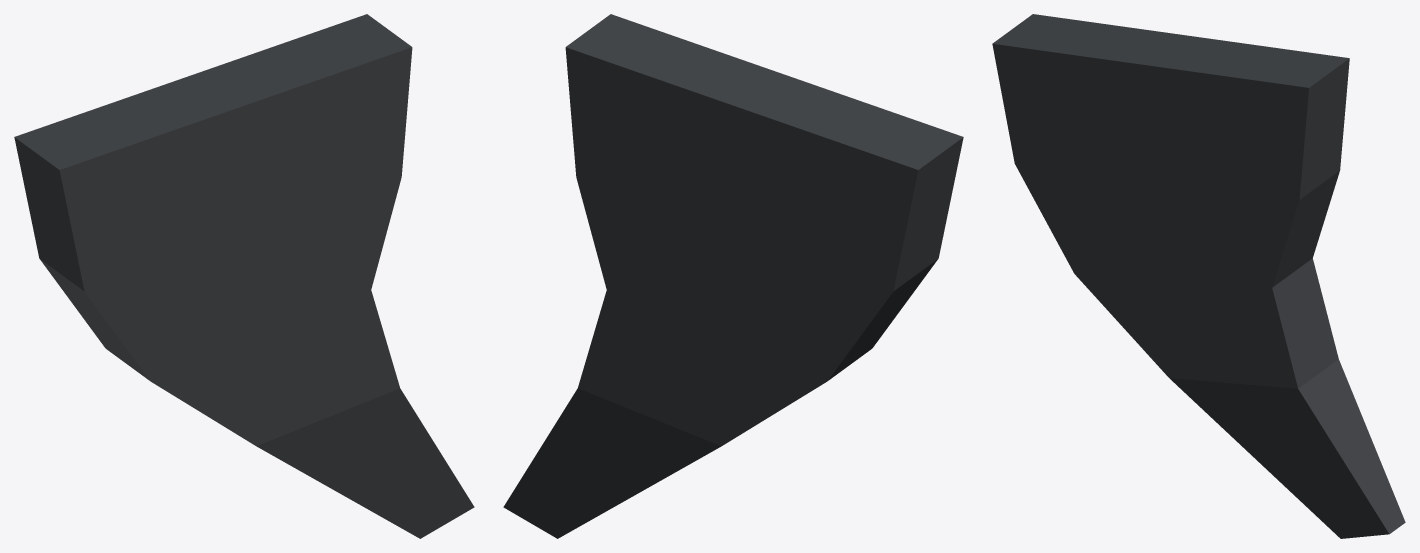
File: Pistol4_06_3.fbx
3 renders of one model, left to right at view 1: azimuth 30°, elevation 25°; view 2: azimuth 150°, elevation 25°; view 3: azimuth 330°, elevation 25°, orthographic. The views are drawn at different scales.
Parts seen in each view (by area): view 1: Pistol4_06_3; view 2: Pistol4_06_3; view 3: Pistol4_06_3.
Boxes of the visible parts, bbox=[...] form: Pistol4_06_3: bbox=[14, 14, 474, 538]; Pistol4_06_3: bbox=[503, 14, 963, 538]; Pistol4_06_3: bbox=[992, 14, 1405, 538].
Bounding box in the file's own units: 0.0282 × 0.0319 × 0.00516.
